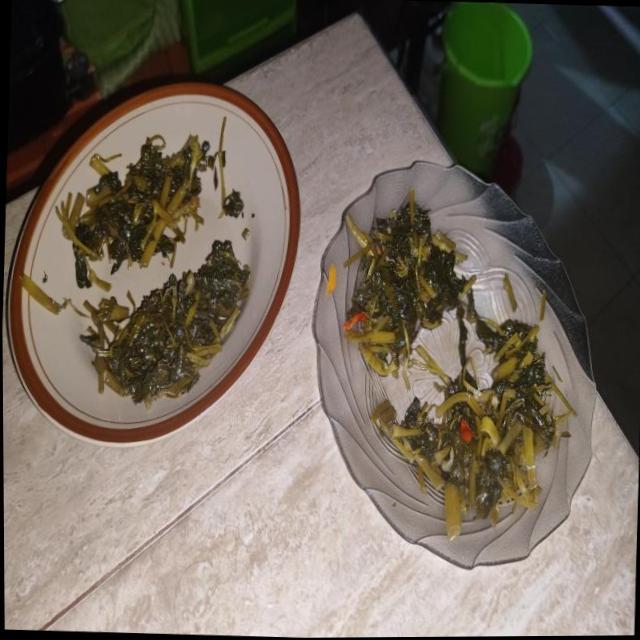tumis_kangkung: (392, 320, 556, 538), (56, 134, 215, 288), (105, 240, 250, 408), (344, 202, 476, 376)
